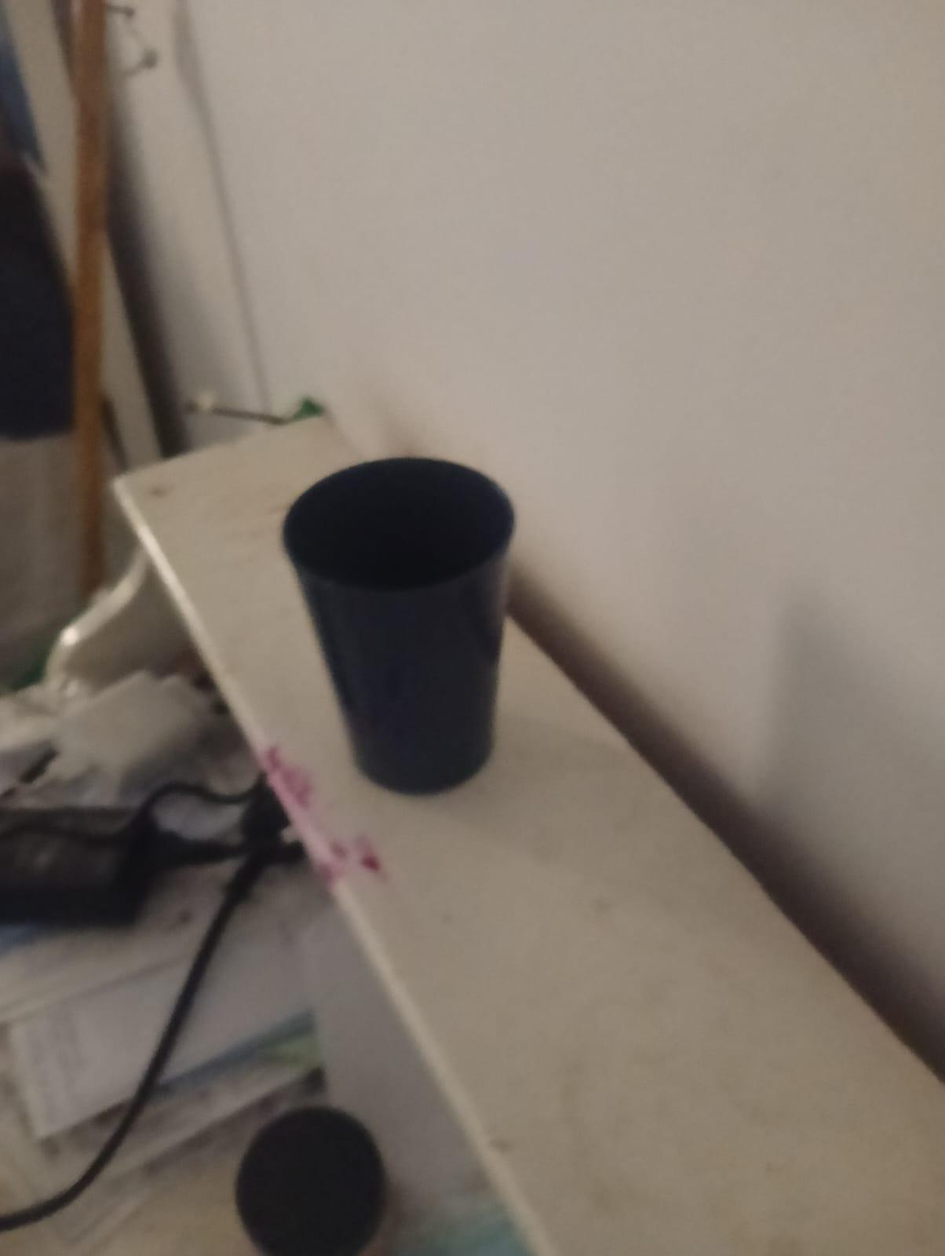cup: (282, 457, 514, 794), (278, 455, 526, 612)
